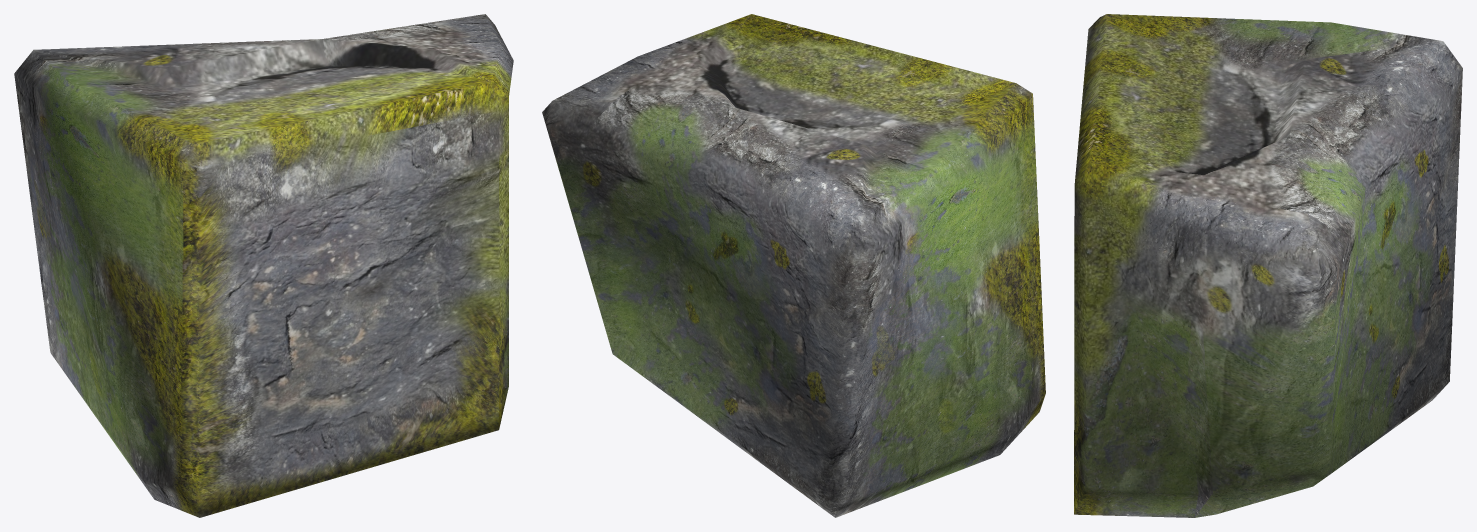
The model's file is steine mit moos.fbx.
The picture shows the model from 3 angles, left to right: view 1: azimuth 30°, elevation 25°; view 2: azimuth 150°, elevation 25°; view 3: azimuth 270°, elevation 25°; orthographic projection. The views are drawn at different scales.
Visible parts, largest first — view 1: Cube; view 2: Cube; view 3: Cube.
Part boxes in pixels (x1,y1,x2,y2): Cube: (14,14,513,517); Cube: (542,14,1045,517); Cube: (1074,14,1462,517).
Bounding box in the file's own units: 0.6631 × 0.5474 × 0.5011.
1 material, 1 textured.
